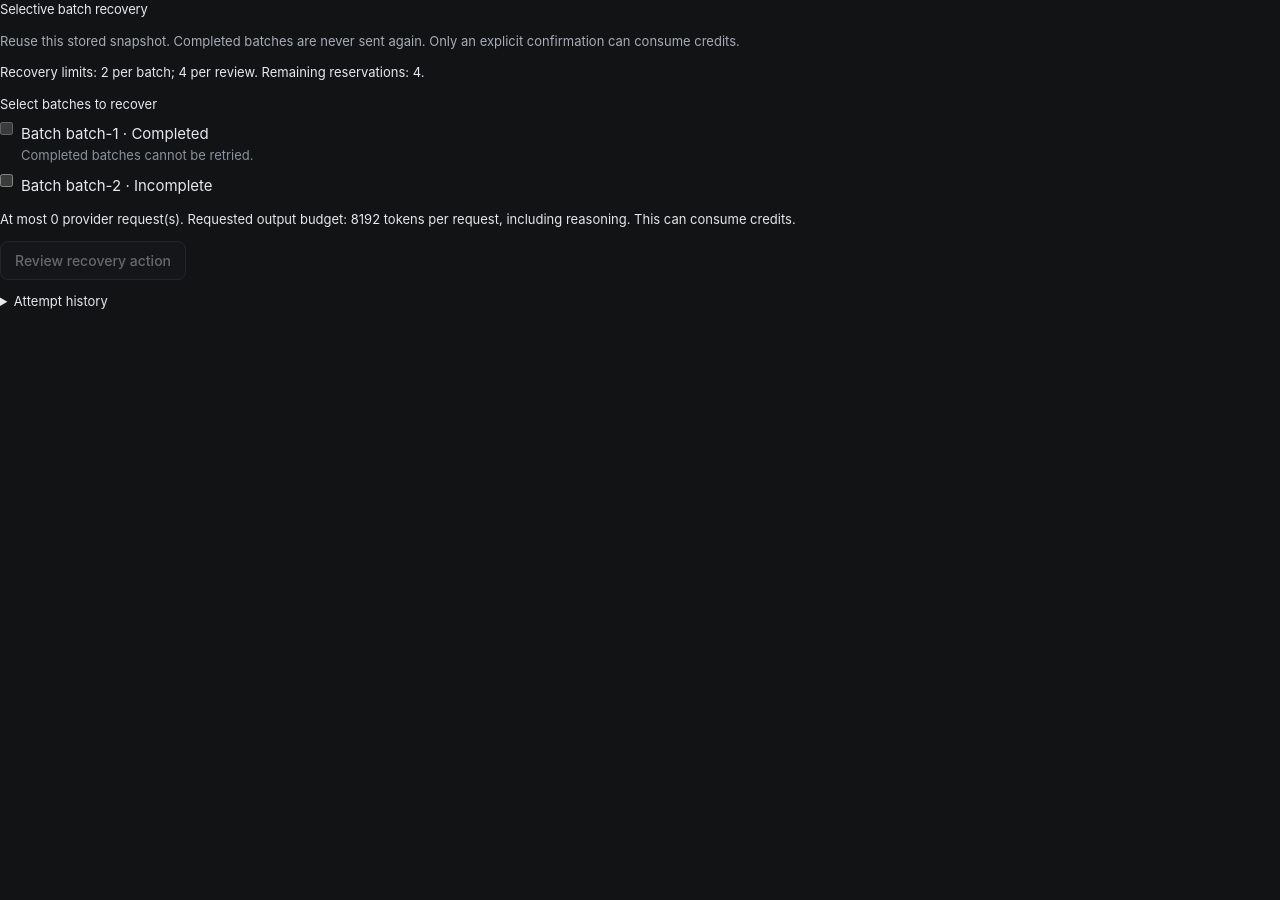
it: cancels confirmation without any request
This screenshot has width=1280, height=900.
Click the checkbox labelled "Batch batch-2 · Incomplete".
click(6, 180)  # box [0,174,13,186]
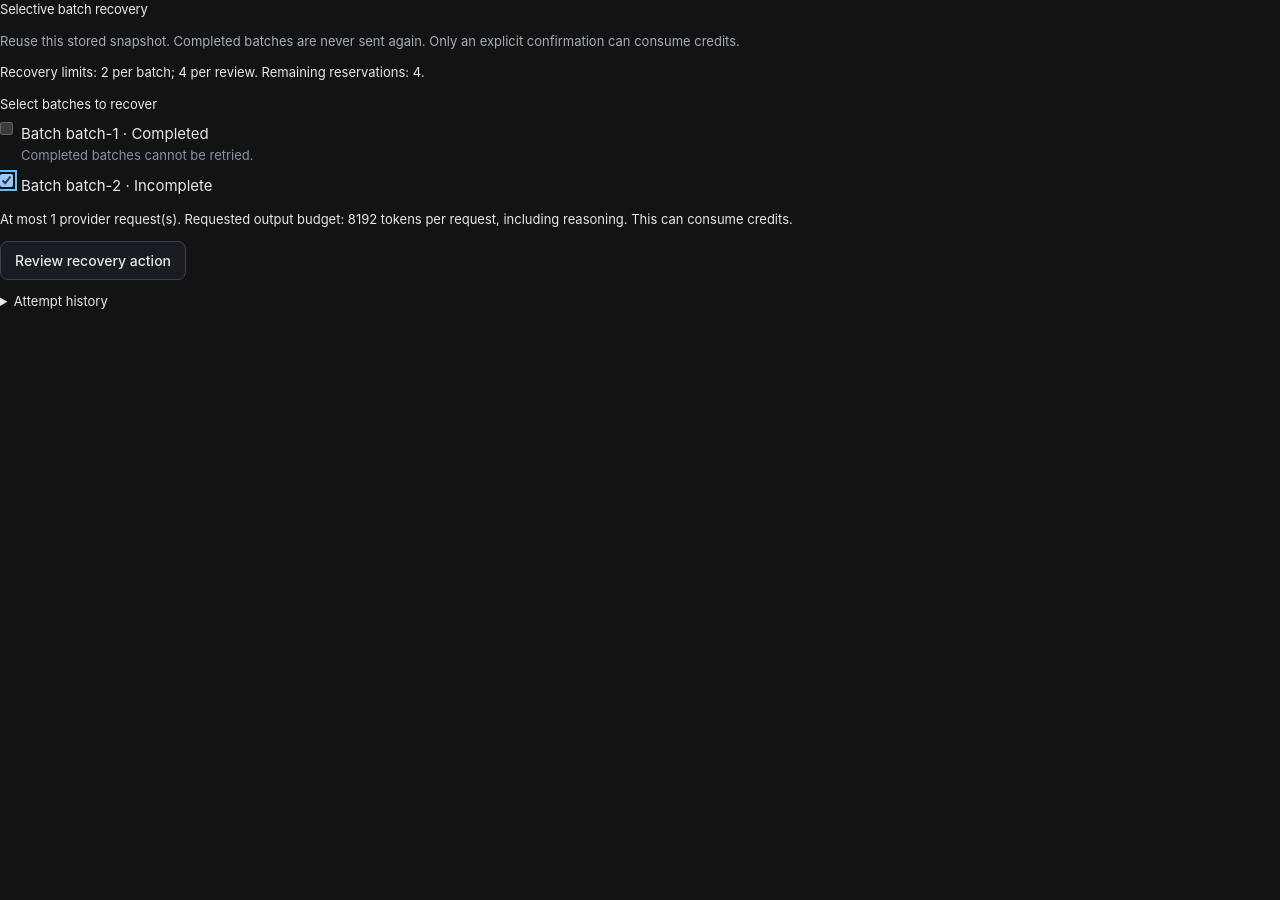
Click the button "Review recovery action".
click(93, 260)  # box [0,241,186,280]
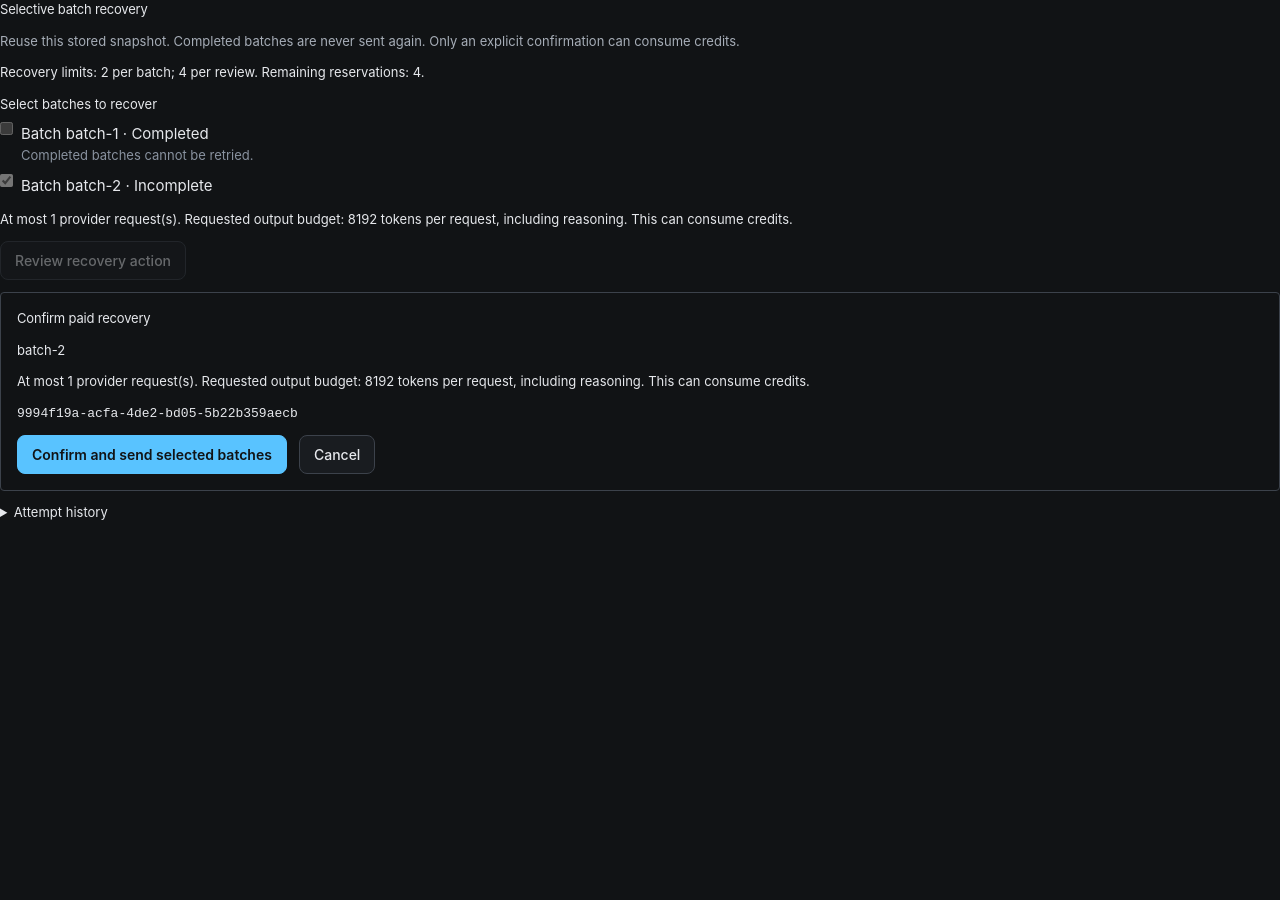
Click the button "Cancel".
click(337, 454)  # box [299,435,375,474]
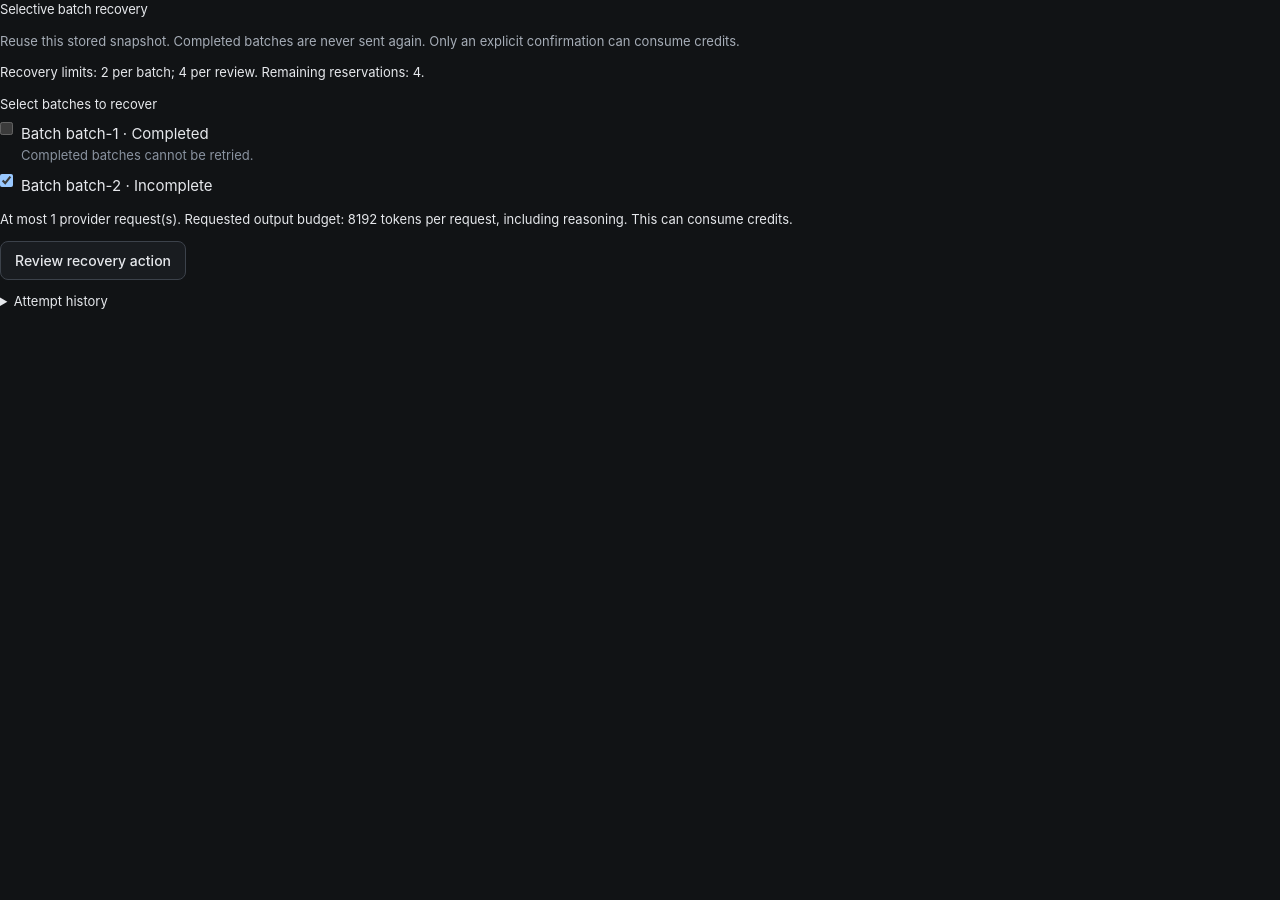
Check: the dialog is gone
